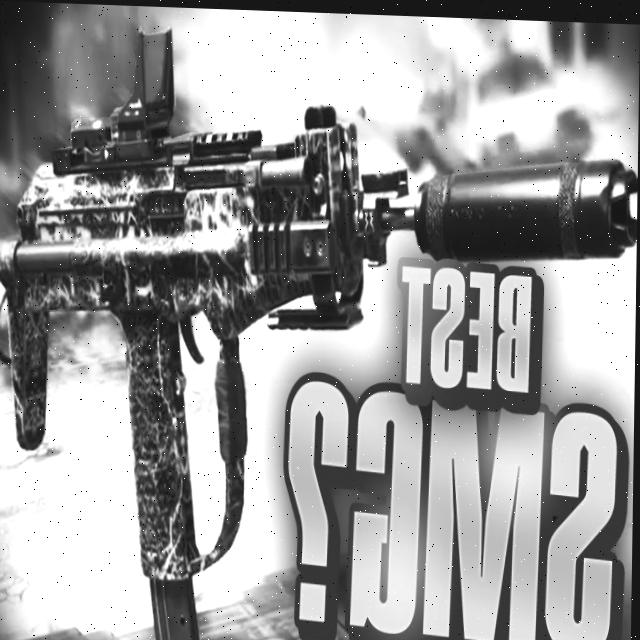firearm: (0, 19, 639, 640)
